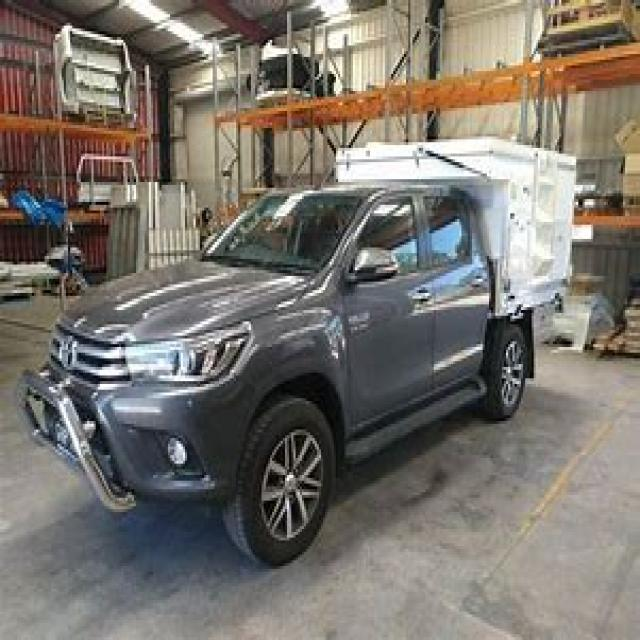light_vehicle: (15, 140, 587, 578)
